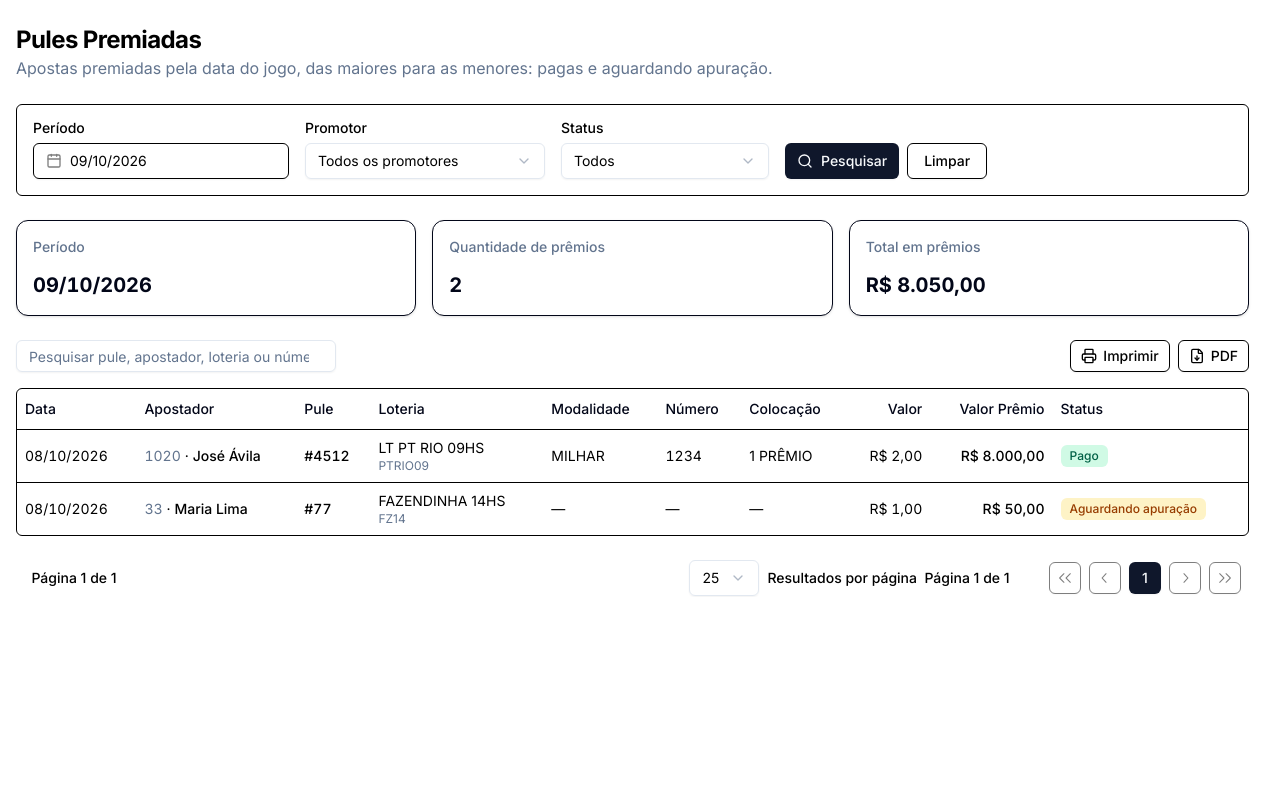
Test: Pules Premiadas: tabela e resumo › Pesquisar filtra só as linhas da página (pule, apostador, loteria, número)
This screenshot has width=1280, height=800.
Type "maria" into the search field named "Pesquisar nesta página".
click(176, 356); type("maria")  # box [16,340,336,372]
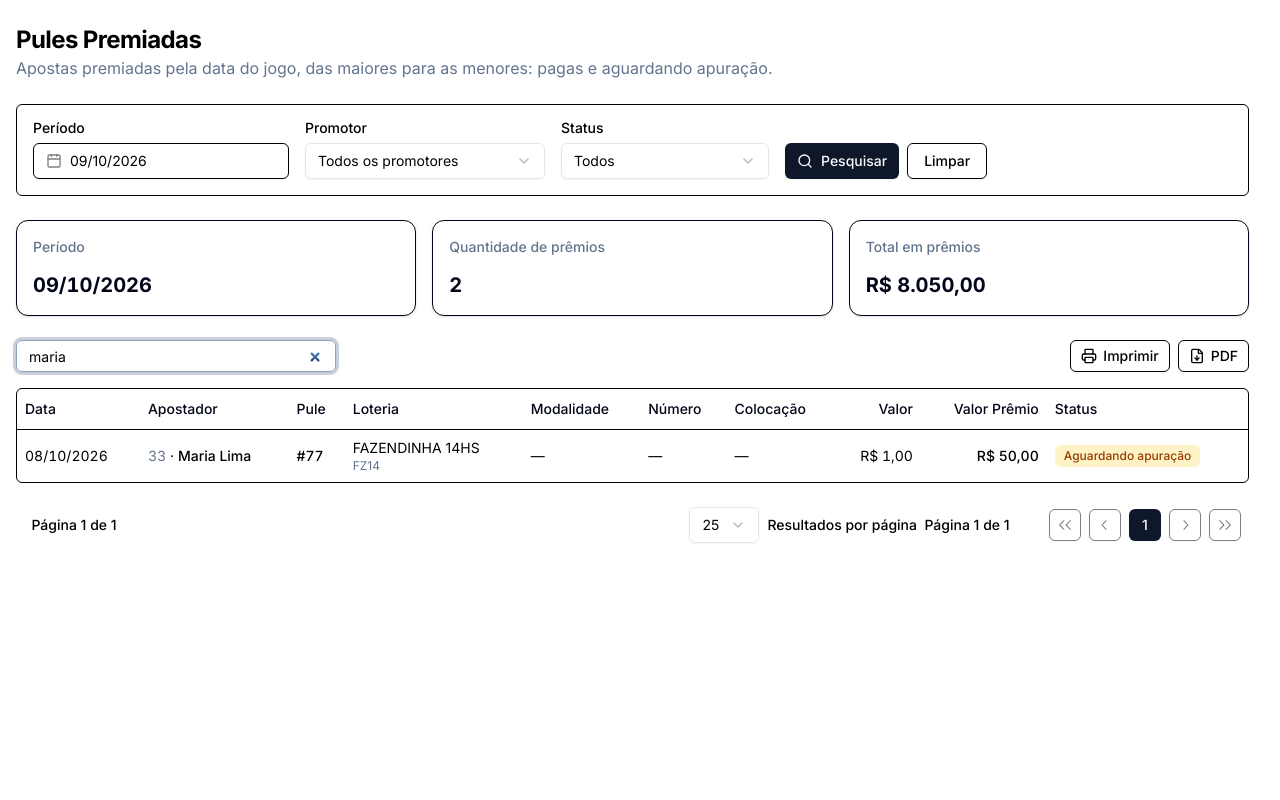
Expected: the row that starts with "Maria Lima" shows "#77", [17,429,1248,482]
Replace the text in the search field named "Pesquisar nesta página" with "ptrio09" at (176, 356), box [16,340,336,372]
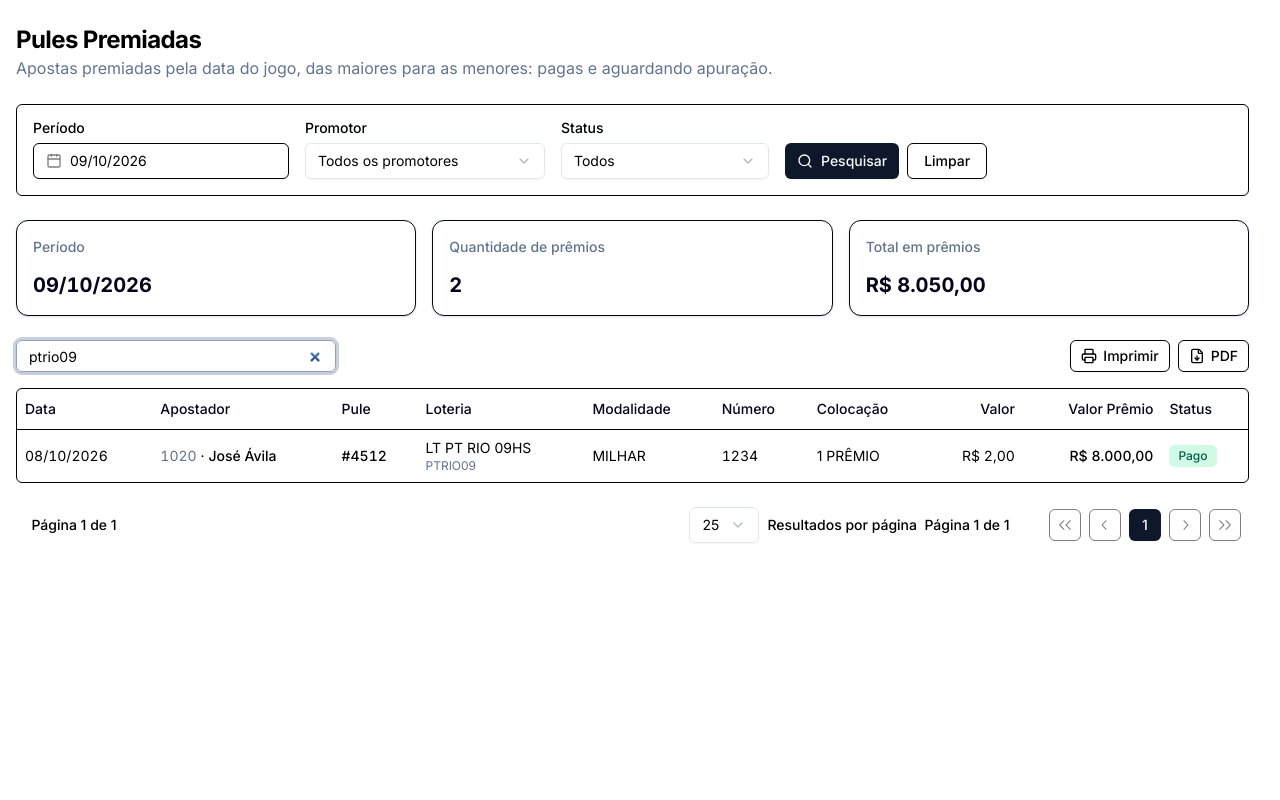
Now the row that starts with "José Ávila" shows "#4512", box [17,429,1248,482]
Replace the text in the search field named "Pesquisar nesta página" with "1234" at (176, 356), box [16,340,336,372]
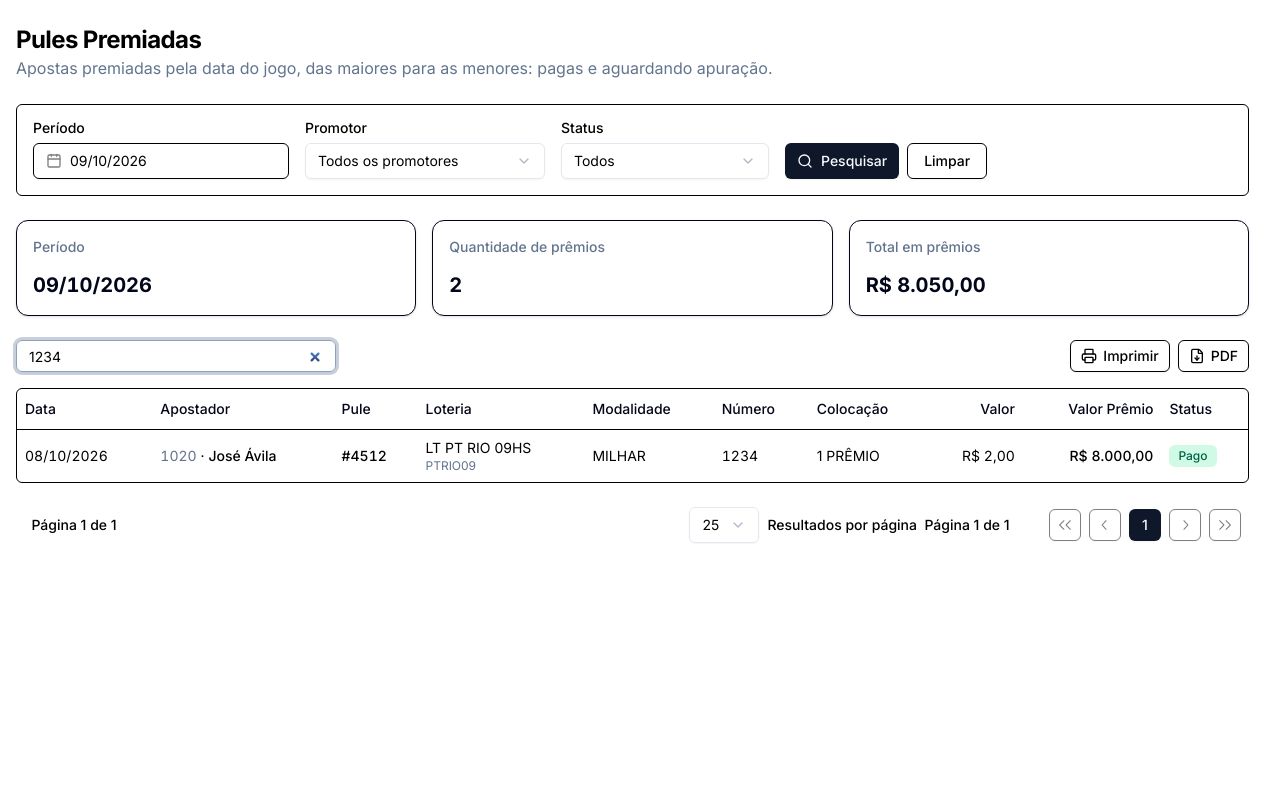
Replace the text in the search field named "Pesquisar nesta página" with "zzz" at (176, 356), box [16,340,336,372]
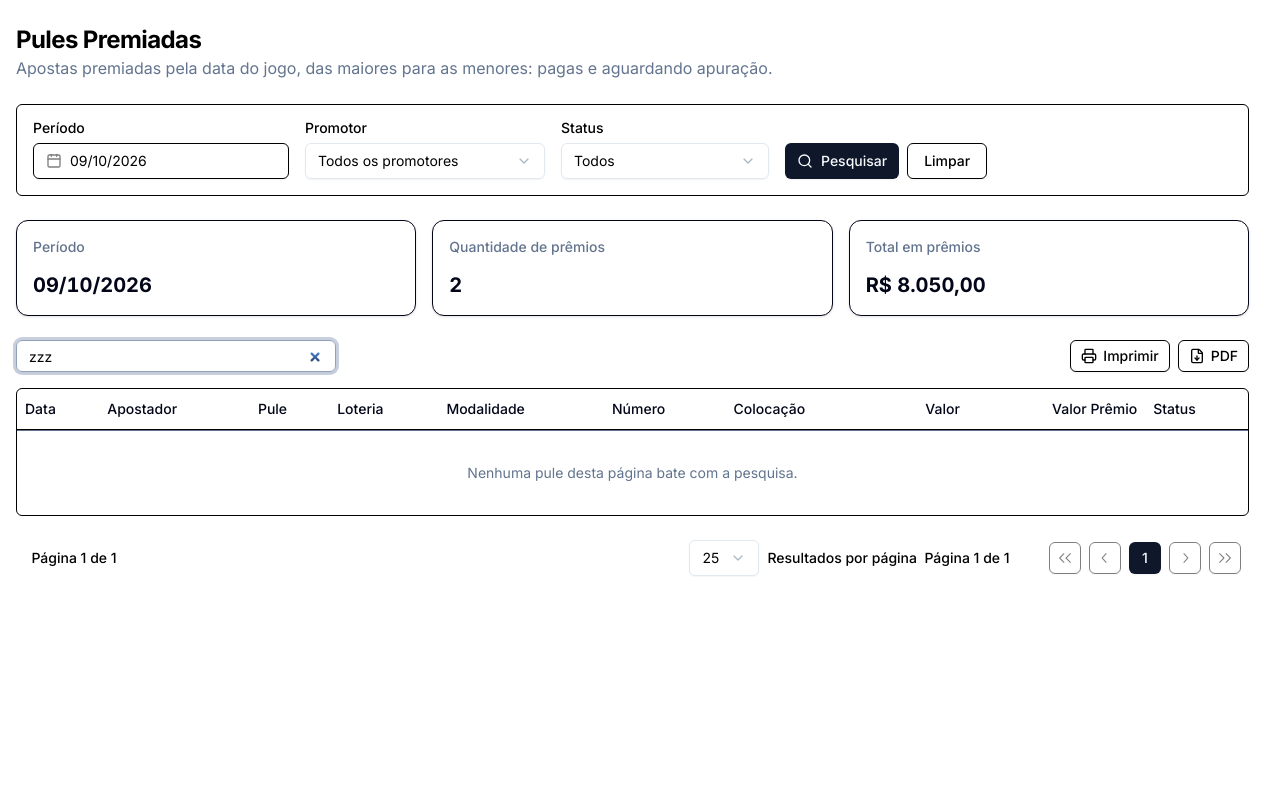
Now the message reads "Nenhuma pule desta página bate com a pesquisa.", box [467,464,798,480]
